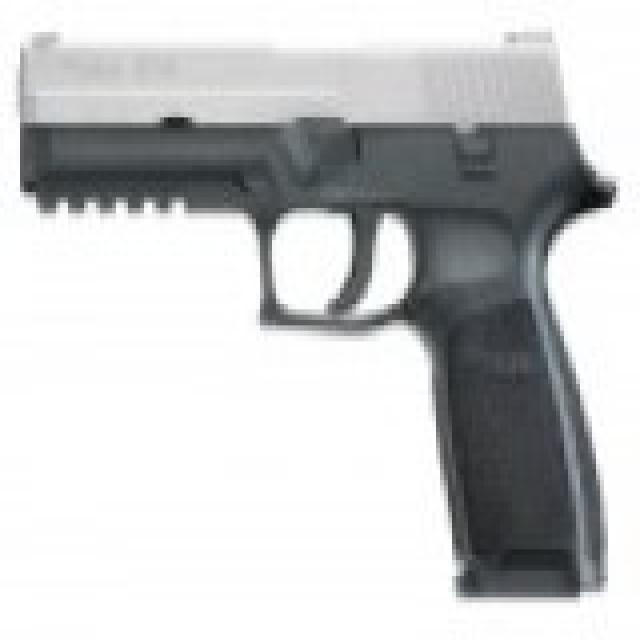gun: (12, 16, 616, 597)
